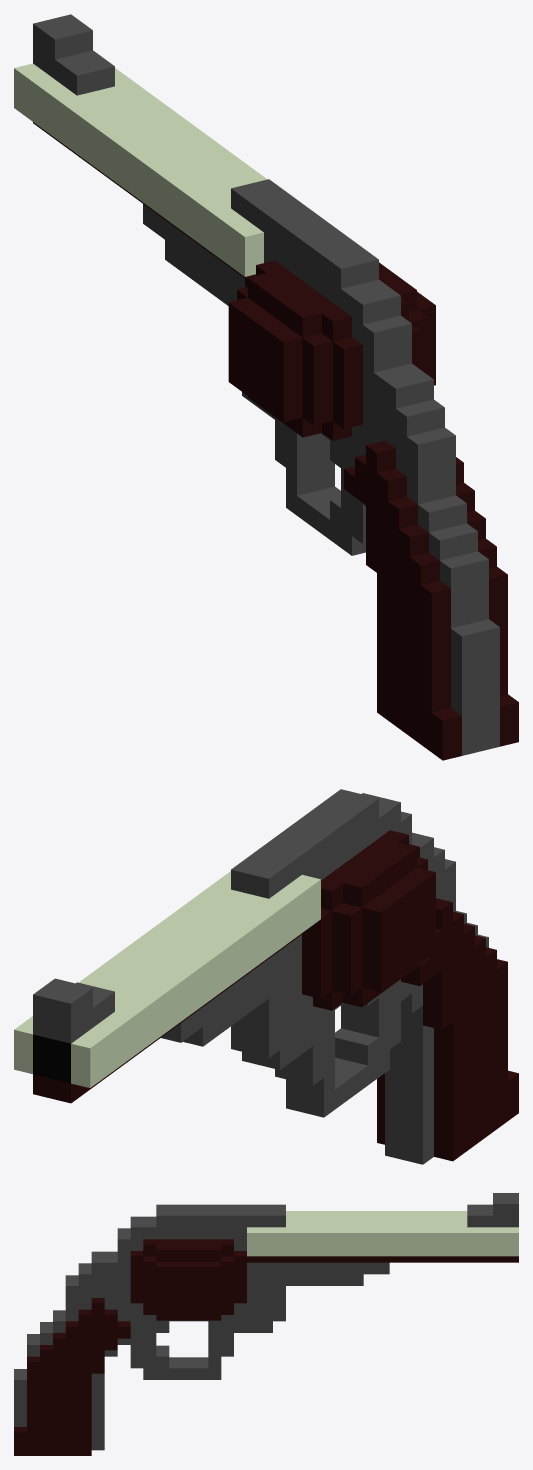
Rendered from gun.FBX.
3 views of the same model, one above another, from view 1: azimuth 30°, elevation 25°; view 2: azimuth 150°, elevation 25°; view 3: azimuth 270°, elevation 25° (orthographic). The views are drawn at different scales.
Parts seen in each view (by area): view 1: default; view 2: default; view 3: default.
Boxes of the visible parts, x1=… form: default: x1=14, y1=14, x2=518, y2=760; default: x1=14, y1=789, x2=518, y2=1164; default: x1=14, y1=1193, x2=518, y2=1455.
Bounding box in the file's own units: 8 × 21 × 39.
1 material, 1 textured.
